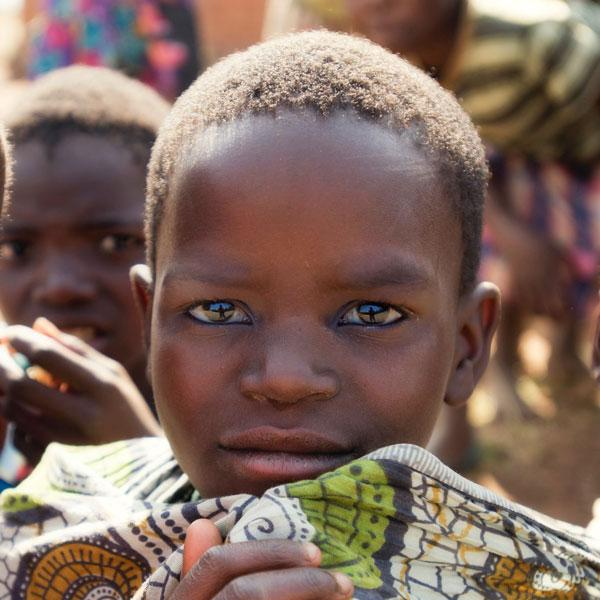Eyes: (322, 286, 427, 345), (178, 286, 255, 342), (89, 225, 144, 259), (0, 231, 42, 271)
